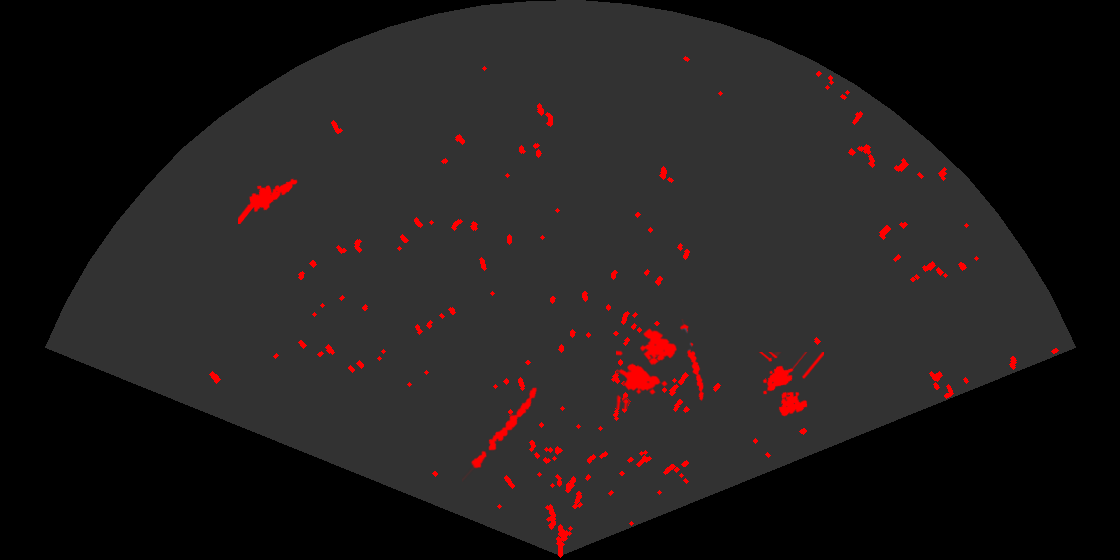cage: (616, 327, 678, 409), (757, 352, 824, 418)
chain: (462, 386, 539, 482), (678, 319, 706, 403)
frogman: (238, 177, 299, 224)
